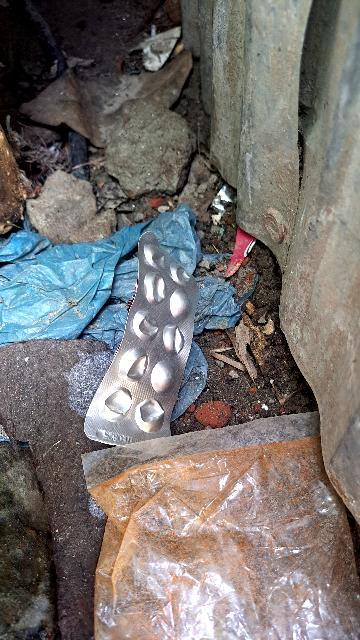medicine: (84, 228, 217, 463)
